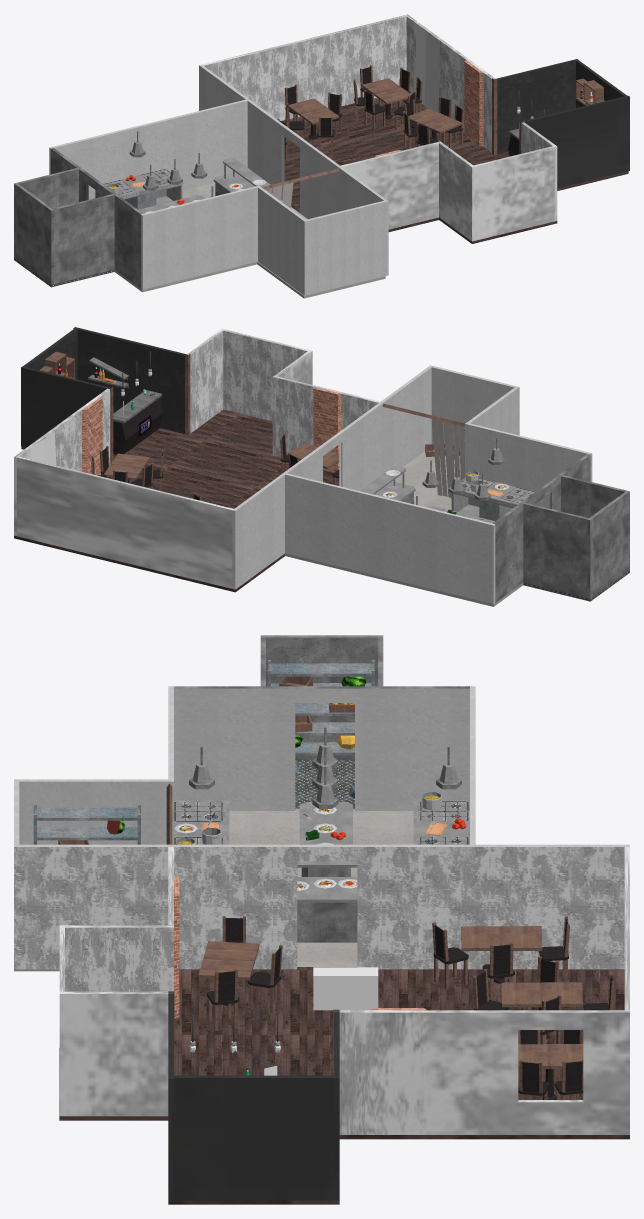
The model's file is wind cut.glb.
The picture shows the model from 3 angles, top to bottom: view 1: azimuth 30°, elevation 25°; view 2: azimuth 150°, elevation 25°; view 3: azimuth 270°, elevation 25°; orthographic projection. The views are drawn at different scales.
Visible parts, largest first — view 1: wall_002, wall_008, wall_009, wall_001, floor, wall_006, wall_007, wall_015, wall_003, wall_013, wall, wall_016 (+18 smaller); view 2: wall_002, wall_008, wall_001, floor, wall_006, wall_012, wall_009, wall_003, wall_007, wall, wall_016, wall_010 (+17 smaller); view 3: wall_001, wall, wall_010, floor, wall_017, wall_005, wall_004, wall_014, floor_001, decor frezz, wall_011, table food (+21 smaller).
Part boxes in pixels (x1,y1,x2,y2): wall_002: (202, 15, 406, 120); wall_008: (49, 99, 247, 199); wall_009: (141, 186, 257, 289); wall_001: (199, 64, 388, 275); floor: (281, 93, 628, 243); wall_006: (524, 95, 629, 188); wall_007: (473, 146, 554, 240); wall_015: (306, 201, 385, 294); wall_003: (340, 142, 438, 229); wall_013: (53, 194, 114, 283); wall: (405, 14, 495, 152); wall_016: (496, 59, 578, 153); wall_002: (17, 456, 233, 588); wall_008: (285, 473, 495, 603); wall_001: (232, 365, 432, 589); floor: (14, 409, 339, 592); wall_006: (73, 327, 186, 433); wall_012: (523, 502, 588, 597); wall_009: (468, 423, 592, 508); wall_003: (276, 376, 380, 472); wall_007: (223, 329, 308, 421); wall: (14, 388, 110, 536); wall_016: (21, 366, 107, 447); wall_010: (492, 454, 590, 602); wall_001: (14, 844, 629, 969); wall: (339, 1008, 629, 1134); wall_010: (174, 686, 469, 810); floor: (59, 967, 629, 1204); wall_017: (174, 1075, 334, 1200); wall_005: (59, 991, 168, 1116); wall_004: (59, 925, 173, 991); wall_014: (14, 779, 173, 844); floor_001: (14, 808, 413, 971); decor frezz: (268, 660, 374, 798); wall_011: (260, 635, 383, 760); table food: (297, 861, 357, 942).
Bounding box in the file's own units: 13.59 × 2.36 × 7.98.
41 materials, 36 textured.
